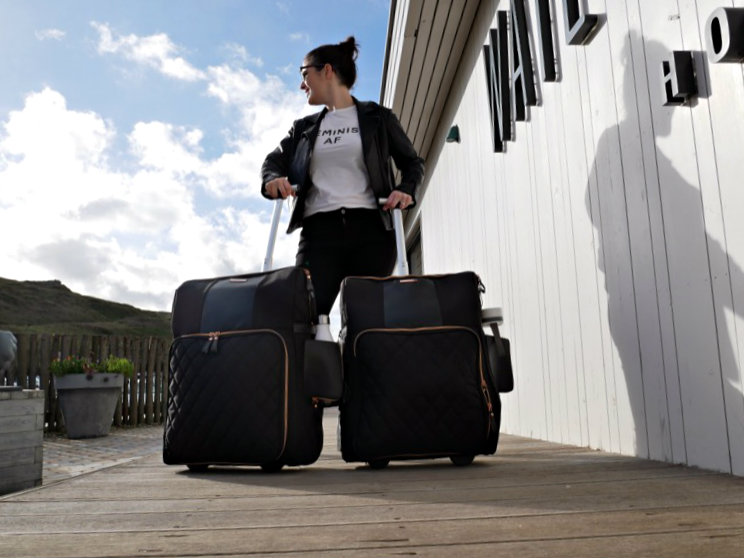luggage: (150, 264, 337, 466), (337, 260, 515, 470)
